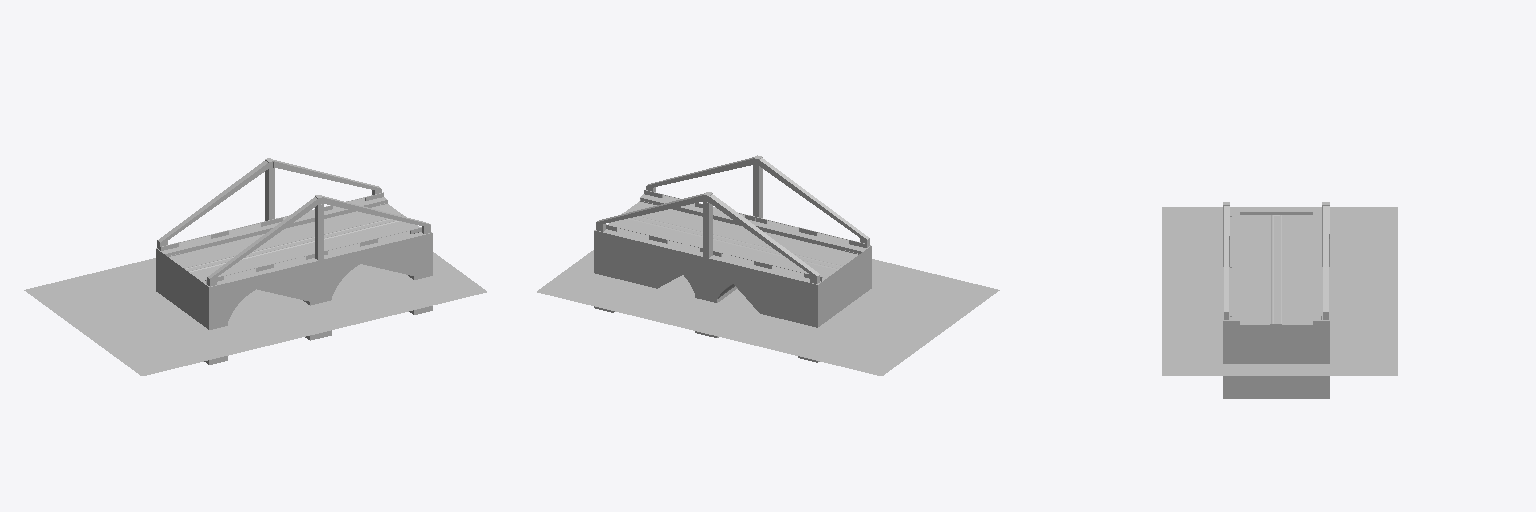
File: bridge.obj
3 renders of one model, left to right at view 1: azimuth 30°, elevation 25°; view 2: azimuth 150°, elevation 25°; view 3: azimuth 270°, elevation 25°, orthographic.
Parts seen in each view (by area): view 1: Mesh2 Model, Mesh1 water_tex Model; view 2: Mesh2 Model, Mesh1 water_tex Model; view 3: Mesh1 water_tex Model, Mesh2 Model.
Boxes of the visible parts, x1,y1,x2,y2 form: Mesh2 Model: [156, 158, 432, 364]; Mesh1 water_tex Model: [24, 252, 486, 375]; Mesh2 Model: [594, 155, 871, 362]; Mesh1 water_tex Model: [537, 250, 999, 375]; Mesh1 water_tex Model: [1162, 207, 1397, 375]; Mesh2 Model: [1223, 202, 1329, 398].
Bounding box in the file's own units: 92.99 × 36 × 55.